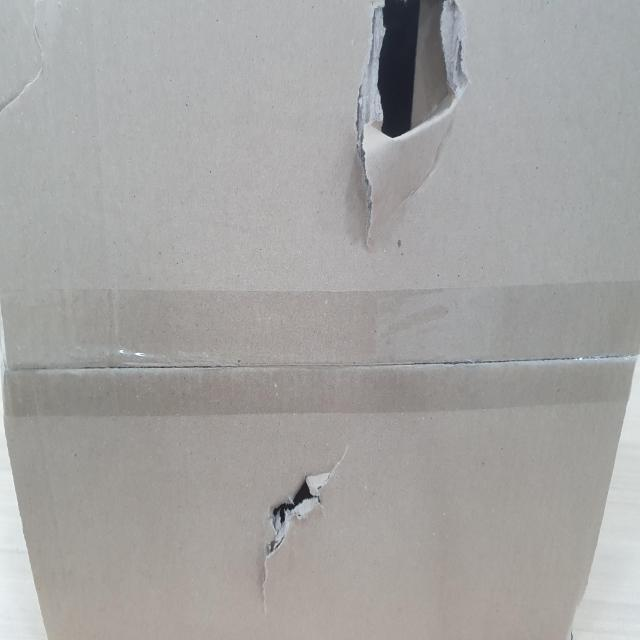damaged: (358, 6, 466, 142), (255, 468, 325, 568)
